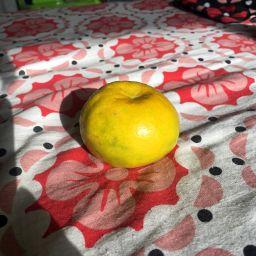Ripe: (80, 83, 175, 165)
